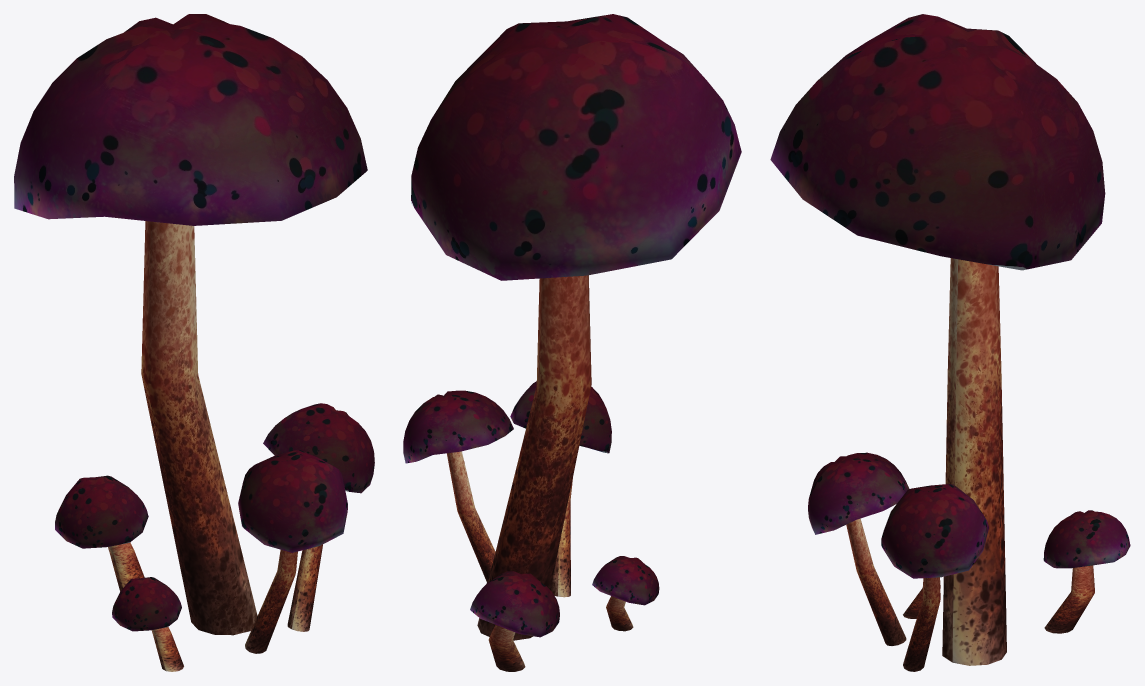
Rendered from uploads_files_3571788_mushroom1.fbx.
3 views of the same model, side by side, from view 1: azimuth 30°, elevation 25°; view 2: azimuth 150°, elevation 25°; view 3: azimuth 270°, elevation 25° (orthographic). The views are drawn at different scales.
Visible parts, largest first — view 1: mushroom, mushroom2; view 2: mushroom, mushroom2; view 3: mushroom, mushroom2.
Boxes of the visible parts, bbox=[...] form: mushroom: bbox=[14, 14, 367, 635]; mushroom2: bbox=[55, 403, 374, 671]; mushroom: bbox=[411, 14, 741, 640]; mushroom2: bbox=[403, 381, 659, 671]; mushroom: bbox=[770, 14, 1105, 665]; mushroom2: bbox=[808, 452, 1130, 671].
Bounding box in the file's own units: 135 × 252 × 139.
1 material, 1 textured.
